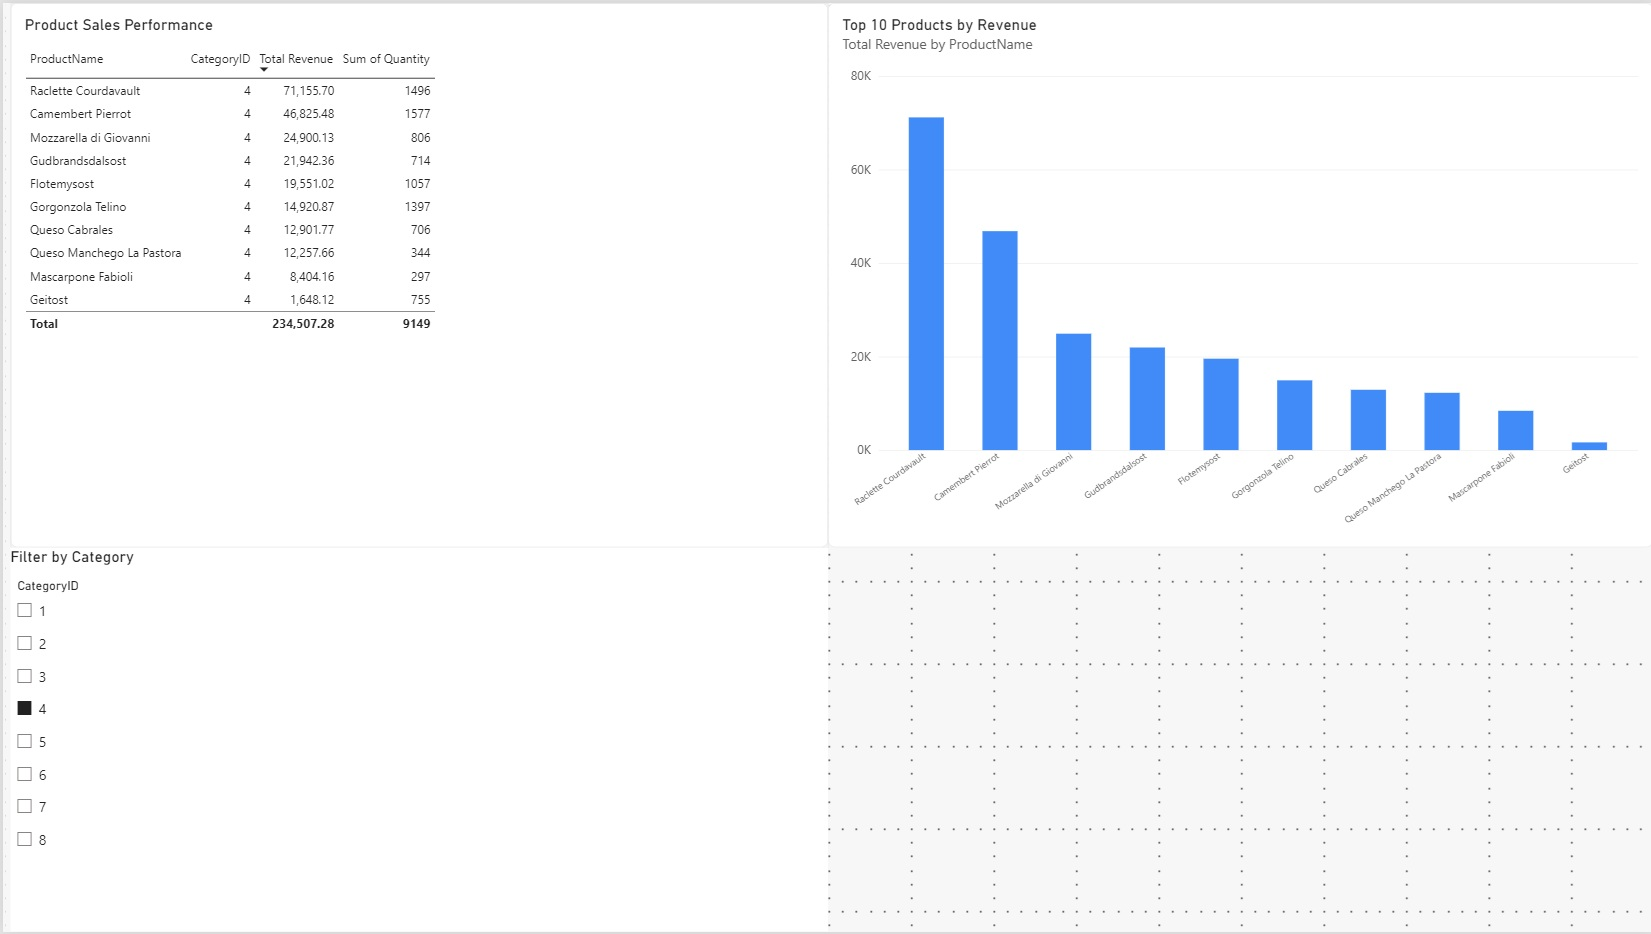

Layout of this report page (visuals, bound fields, positions):
{"tool":"powerbi","page":{"name":"Product Performance","canvas":[1920,1080],"ordinal":2},"visuals":[{"type":"tableEx","title":"Product Sales Performance","fields":{"Values":["Products.ProductName","Products.CategoryID","OrderDetails.Total Revenue","Sum(OrderDetails.Quantity)"]},"box":[9.4,63,950.6,604.3],"z":0},{"type":"clusteredColumnChart","title":"Top 10 Products by Revenue","fields":{"Category":["Products.ProductName"],"Y":["OrderDetails.Total Revenue"]},"box":[960,63,960,604.3],"z":1},{"type":"slicer","title":"Filter by Category","fields":{"Values":["Products.CategoryID"]},"box":[9.4,679.9,950.6,401.3],"z":2},{"type":"pageNavigator","box":[0,0,1909,50.4],"z":3}]}

Visuals, with their boxes in screenshot pixels (x1, y1, x2, y2), scaled from the page's 1920x1080 canvas onto the 1651x934 screenshot:
"Product Sales Performance" tableEx: box=[8, 54, 826, 577]
"Top 10 Products by Revenue" clusteredColumnChart: box=[826, 54, 1650, 577]
"Filter by Category" slicer: box=[8, 588, 826, 933]
pageNavigator: box=[0, 0, 1642, 44]
